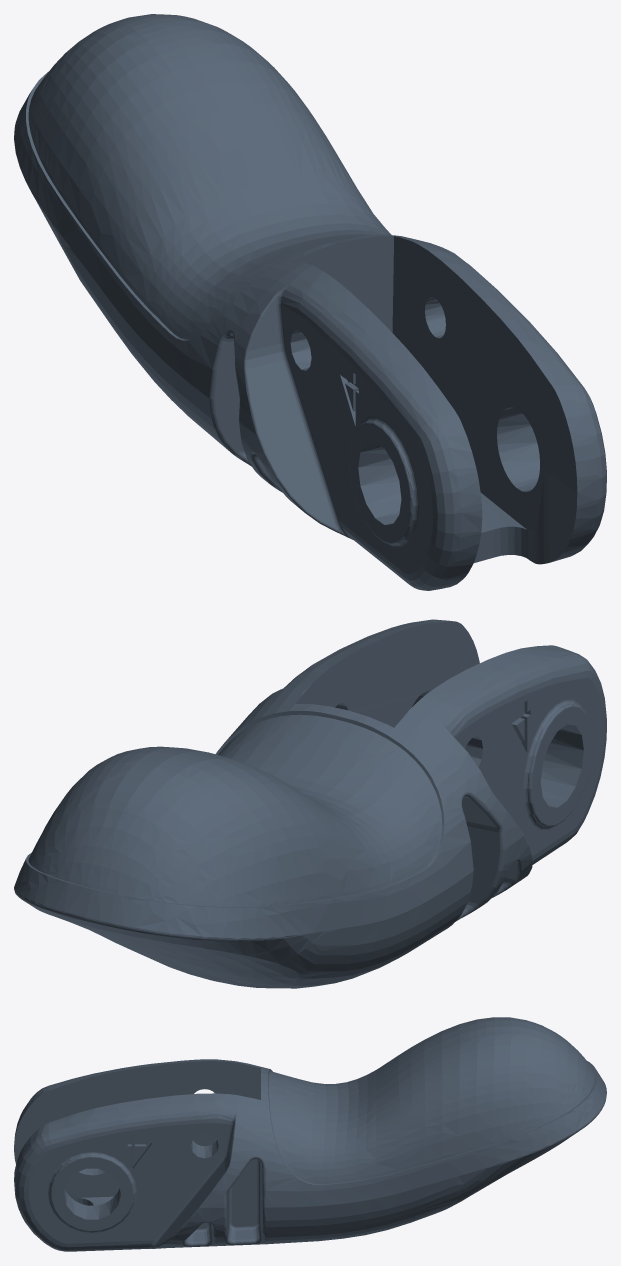
File: R_little_dist.dae
The picture shows the model from 3 angles, top to bottom: view 1: azimuth 30°, elevation 25°; view 2: azimuth 150°, elevation 25°; view 3: azimuth 270°, elevation 25°; orthographic projection. The views are drawn at different scales.
Visible parts, largest first — view 1: R_little_dist; view 2: R_little_dist; view 3: R_little_dist.
Boxes of the visible parts, x1,y1,x2,y2 form: R_little_dist: (14,14,606,590); R_little_dist: (14,619,606,988); R_little_dist: (14,1017,606,1251).
Bounding box in the file's own units: 0.0147 × 0.0422 × 0.0163.
